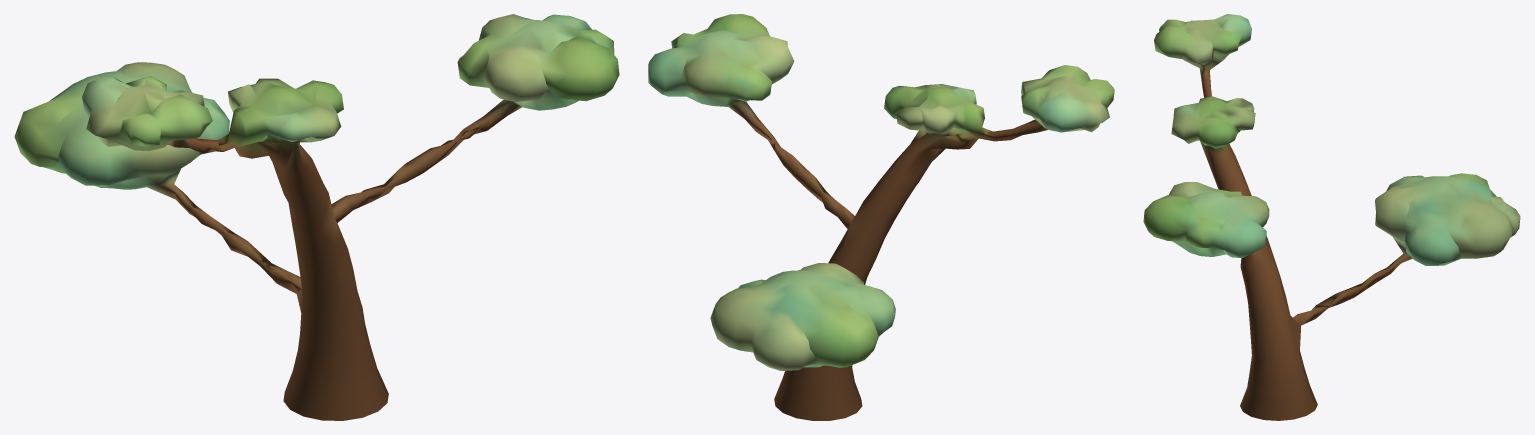
File: cloud-tree-111-lod1.obj
3 renders of one model, left to right at view 1: azimuth 30°, elevation 25°; view 2: azimuth 150°, elevation 25°; view 3: azimuth 270°, elevation 25°, orthographic. The views are drawn at different scales.
Visible parts, largest first — view 1: simplified; view 2: simplified; view 3: simplified.
Part boxes in pixels (left/top/right/bottom): simplified: left=14, top=14, right=619, bottom=420; simplified: left=648, top=14, right=1114, bottom=420; simplified: left=1143, top=14, right=1520, bottom=420.
Size of the model in its own units: 363 by 270 by 309.
